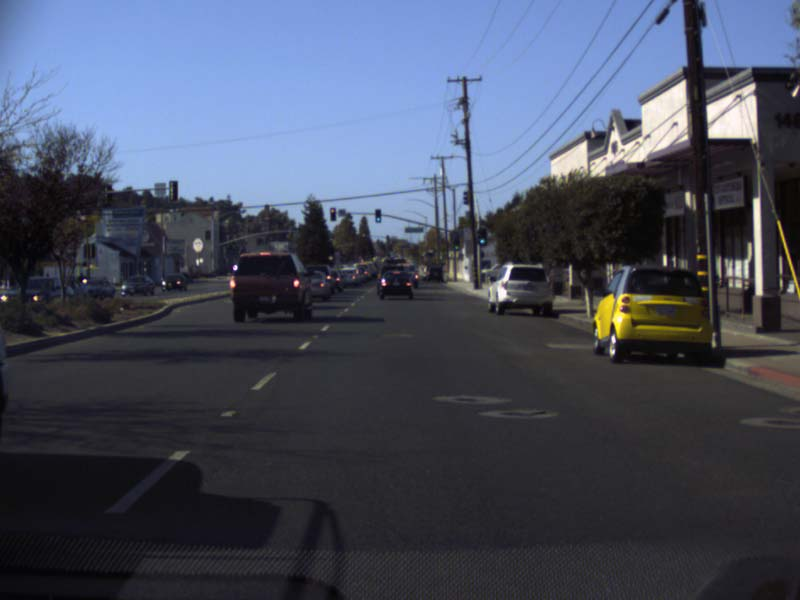Green: (452, 234, 459, 249), (478, 229, 485, 244), (374, 209, 380, 222)
Red: (330, 207, 335, 220)
